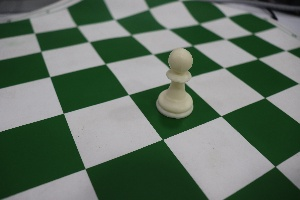white_pawn: (148, 34, 202, 128)
